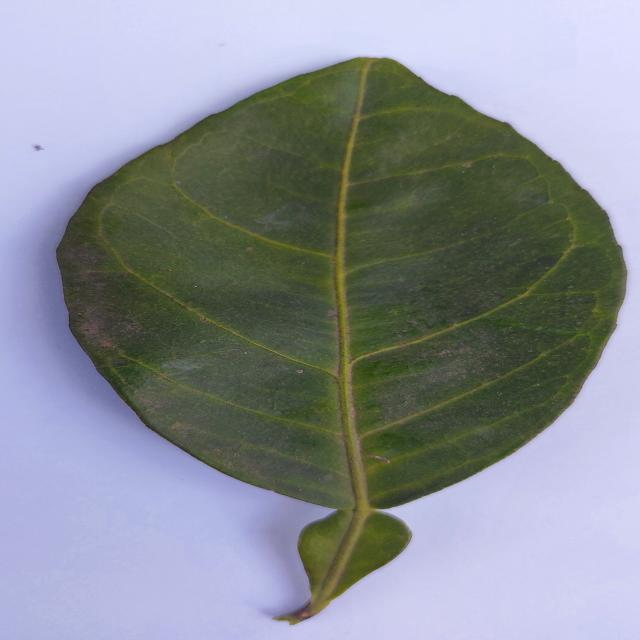greening: (59, 58, 622, 624)
